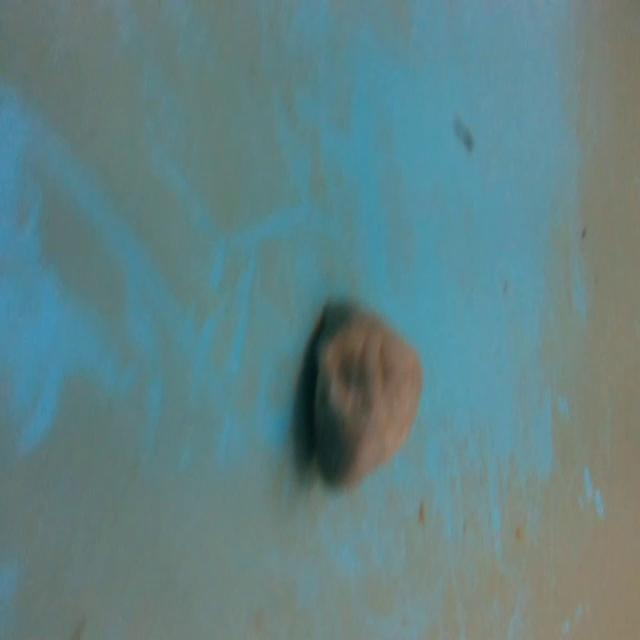rock: (304, 287, 426, 507)
